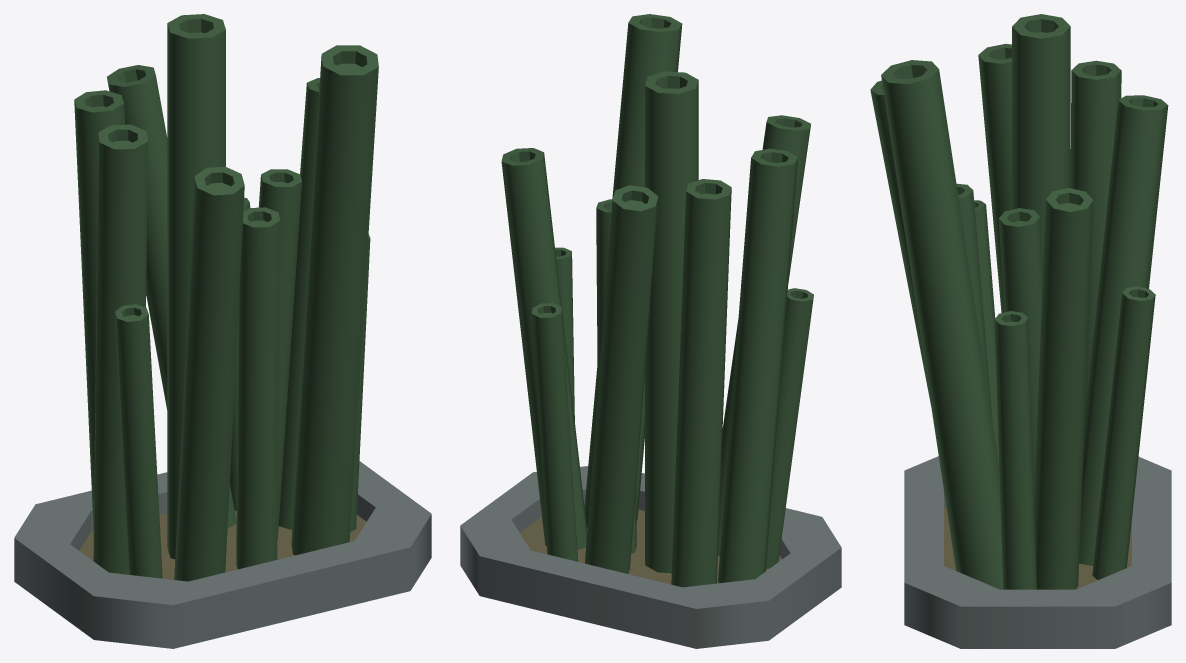
Rendered from SM_bamboo.fbx.
3 renders of one model, left to right at view 1: azimuth 30°, elevation 25°; view 2: azimuth 150°, elevation 25°; view 3: azimuth 270°, elevation 25°, orthographic. The views are drawn at different scales.
Visible parts, largest first — view 1: SM_bamboo; view 2: SM_bamboo; view 3: SM_bamboo.
Part boxes in pixels (box(x1,y1,x2,y2)): SM_bamboo: box(14, 14, 431, 648); SM_bamboo: box(460, 14, 841, 648); SM_bamboo: box(870, 14, 1171, 648).
Bounding box in the file's own units: 129 × 201 × 103.
